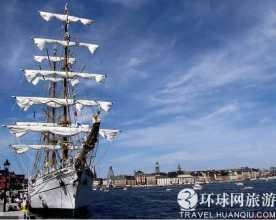fanchuan: (13, 2, 113, 216)
